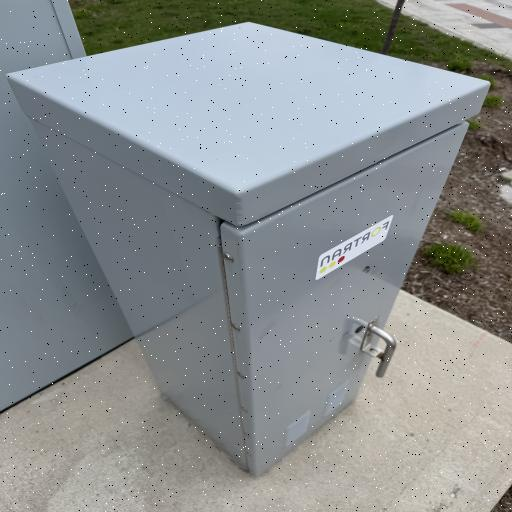Electrical Box: (1, 20, 491, 473)
